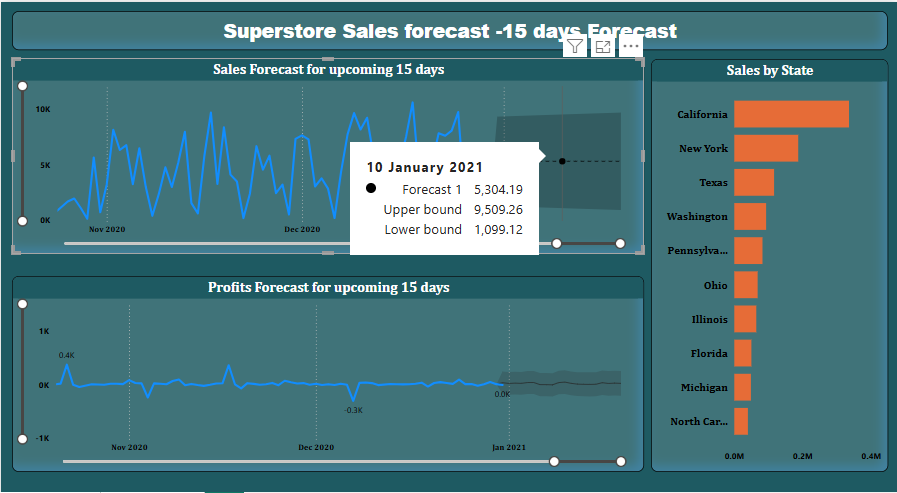

This screenshot's page, from the dashboard's own definition file:
{"tool":"powerbi","page":{"name":"Forecasting","canvas":[1280,720],"ordinal":1},"visuals":[{"type":"lineChart","title":"Sales Forecast for upcoming 15 days","fields":{"Y":["Sum(SuperStore_Sales_Dataset.Sales)"],"Category":["SuperStore_Sales_Dataset.Order Date"]},"box":[15.7,80,902.9,280],"z":0},{"type":"lineChart","title":"Profits Forecast for upcoming 15 days","fields":{"Category":["SuperStore_Sales_Dataset.Order Date"],"Y":["Avg(SuperStore_Sales_Dataset.Profit)"]},"box":[15.7,391.4,902.9,280],"z":1000},{"type":"barChart","title":"Sales by State","fields":{"Category":["SuperStore_Sales_Dataset.State"],"Y":["Sum(SuperStore_Sales_Dataset.Sales)"]},"box":[928.6,81.4,338.6,590],"z":2000},{"type":"textbox","box":[15.7,12.9,1251.4,55.7],"z":3000}]}

Visuals, with their boxes in screenshot pixels (x1, y1, x2, y2), scaled from the page's 1280x720 canvas onto the 897x493 screenshot:
"Sales Forecast for upcoming 15 days" lineChart: (left=11, top=55, right=644, bottom=246)
"Profits Forecast for upcoming 15 days" lineChart: (left=11, top=268, right=644, bottom=460)
"Sales by State" barChart: (left=651, top=56, right=888, bottom=460)
textbox: (left=11, top=9, right=888, bottom=47)
